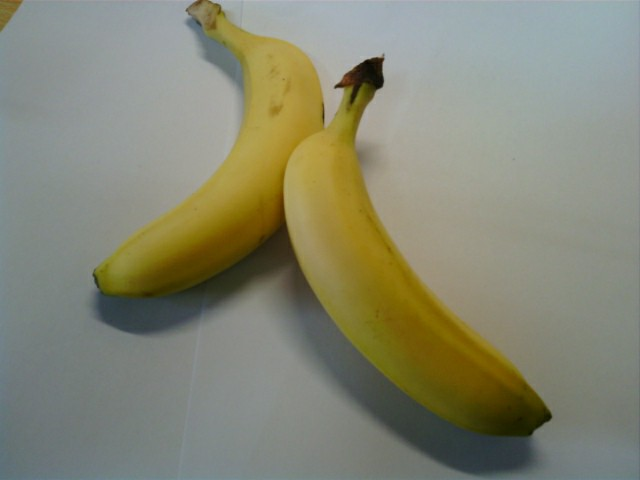fresh_banana: (283, 120, 553, 435), (89, 27, 324, 294)
